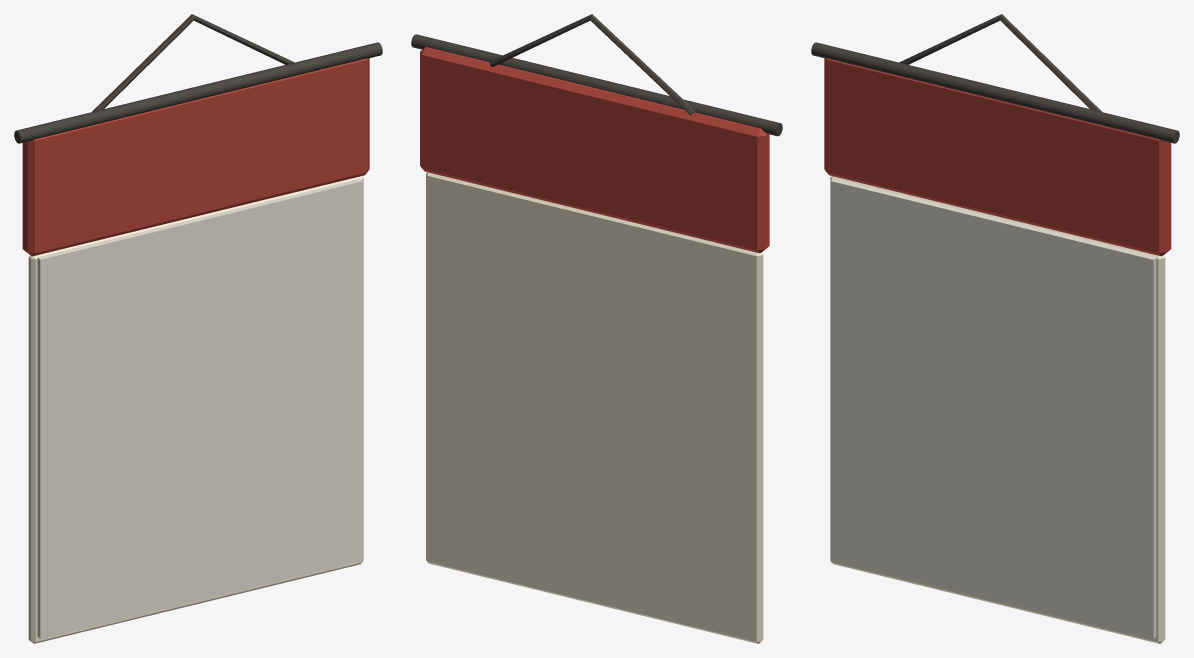
Rendered from calendar_wall.glb.
The picture shows the model from 3 angles, left to right: view 1: azimuth 30°, elevation 25°; view 2: azimuth 150°, elevation 25°; view 3: azimuth 330°, elevation 25°; orthographic projection.
Visible parts, largest first — view 1: calendar_wall; view 2: calendar_wall; view 3: calendar_wall.
Boxes of the visible parts, x1,y1,x2,y2 form: calendar_wall: [14, 14, 382, 643]; calendar_wall: [411, 14, 782, 643]; calendar_wall: [811, 14, 1179, 643].
Bounding box in the file's own units: 0.37 × 0.5726 × 0.019.
